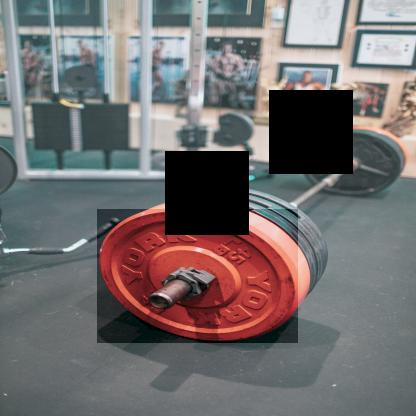barbell: (98, 210, 299, 344)
